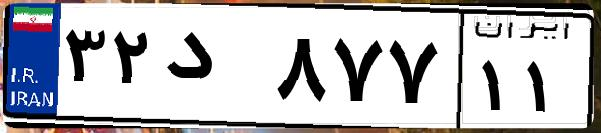1: (475, 38, 525, 113), (525, 38, 570, 115)
2: (110, 28, 158, 98)
3: (57, 26, 110, 100)
7: (385, 28, 445, 110), (330, 28, 385, 110)
8: (270, 28, 330, 110)
د: (158, 20, 270, 120)
